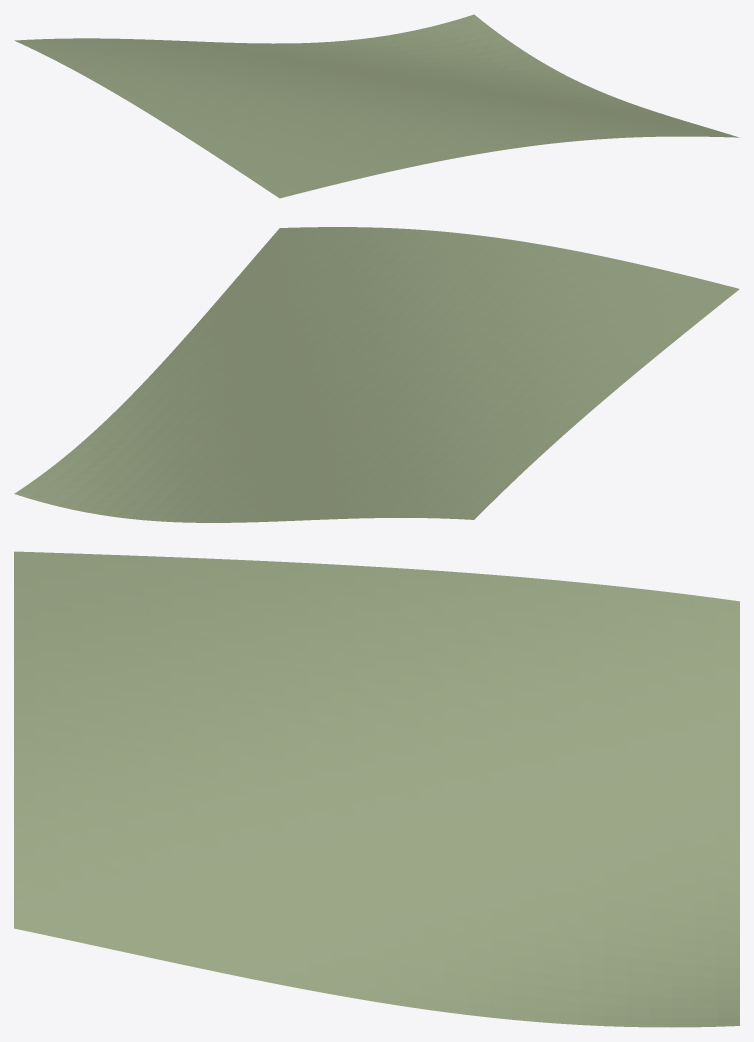
The model's file is expanse-9-11.glb.
The picture shows the model from 3 angles, top to bottom: view 1: azimuth 30°, elevation 25°; view 2: azimuth 150°, elevation 25°; view 3: azimuth 270°, elevation 25°; orthographic projection. The views are drawn at different scales.
Parts seen in each view (by area): view 1: expanse-9-11; view 2: expanse-9-11; view 3: expanse-9-11.
Part boxes in pixels (x1,y1,x2,y2): expanse-9-11: (14, 14, 739, 198); expanse-9-11: (14, 227, 739, 522); expanse-9-11: (14, 551, 739, 1027).
Size of the model in its own units: 256 by 66.4 by 256.
